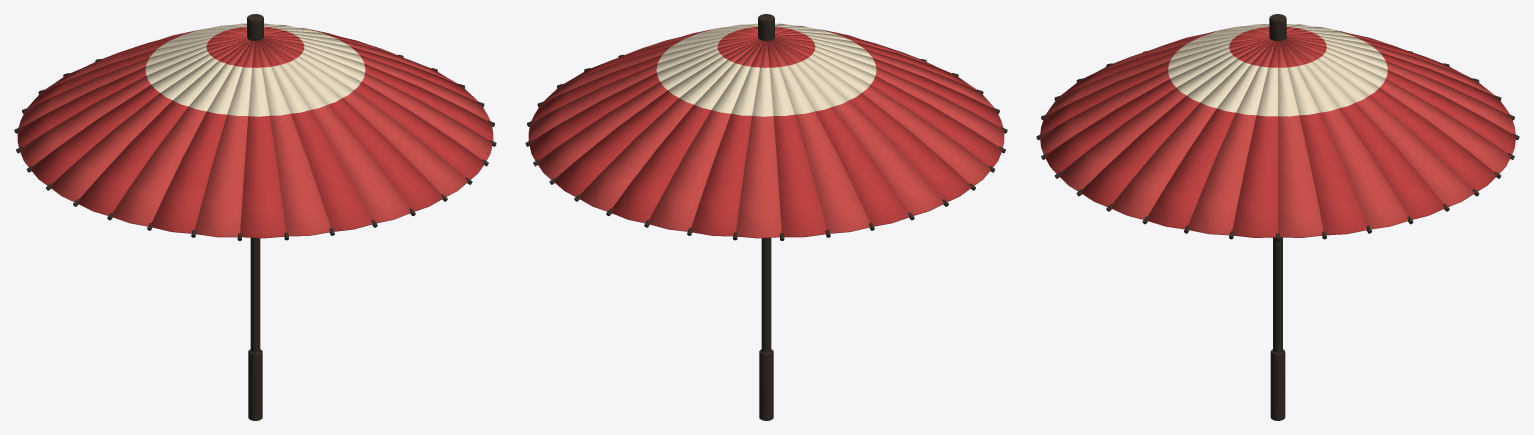
Rendered from P007_parasol_rebuilt.glb.
3 renders of one model, left to right at view 1: azimuth 30°, elevation 25°; view 2: azimuth 150°, elevation 25°; view 3: azimuth 270°, elevation 25°, orthographic.
Parts seen in each view (by area): view 1: Parasol_alternate_warm_paper, Parasol_deep_vermilion_paper, Parasol_lacquered_shaft; view 2: Parasol_deep_vermilion_paper, Parasol_alternate_warm_paper, Parasol_lacquered_shaft; view 3: Parasol_alternate_warm_paper, Parasol_deep_vermilion_paper, Parasol_lacquered_shaft.
Boxes of the visible parts, bbox=[...] form: Parasol_alternate_warm_paper: bbox=[18, 23, 492, 237]; Parasol_deep_vermilion_paper: bbox=[17, 23, 493, 238]; Parasol_lacquered_shaft: bbox=[14, 14, 496, 420]; Parasol_deep_vermilion_paper: bbox=[529, 23, 1003, 237]; Parasol_alternate_warm_paper: bbox=[528, 23, 1004, 238]; Parasol_lacquered_shaft: bbox=[525, 14, 1007, 420]; Parasol_alternate_warm_paper: bbox=[1040, 24, 1515, 237]; Parasol_deep_vermilion_paper: bbox=[1040, 24, 1515, 237]; Parasol_lacquered_shaft: bbox=[1036, 14, 1519, 420].
Size of the model in its own units: 0.7915 by 0.725 by 0.7915.
